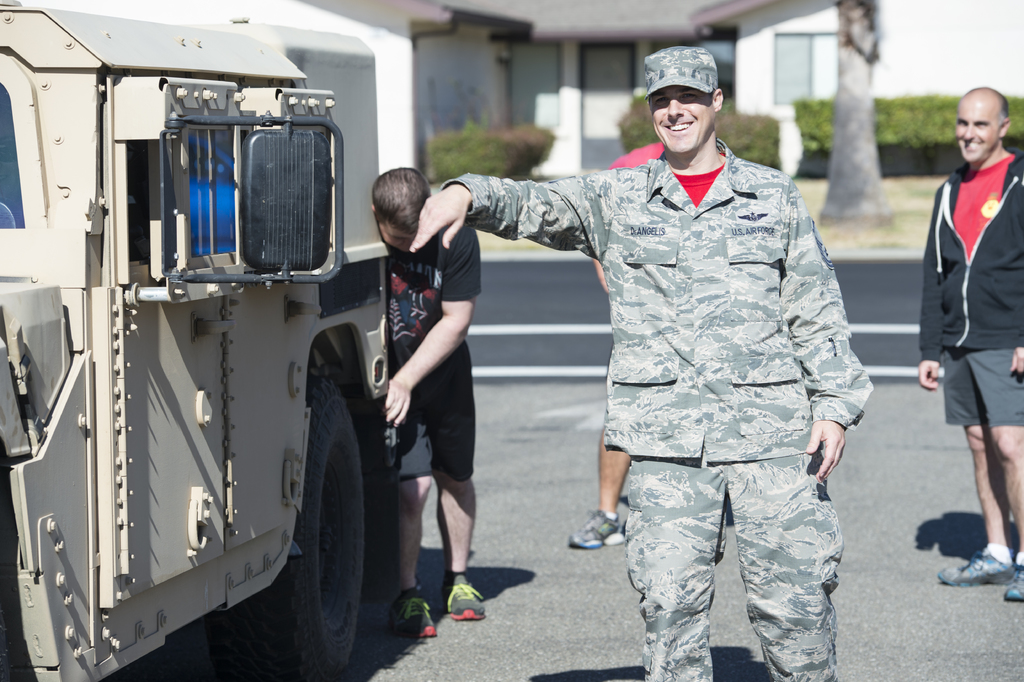Footwear: (921, 547, 1018, 593), (566, 508, 630, 561), (394, 577, 434, 642), (440, 574, 488, 622), (1010, 572, 1023, 603)
